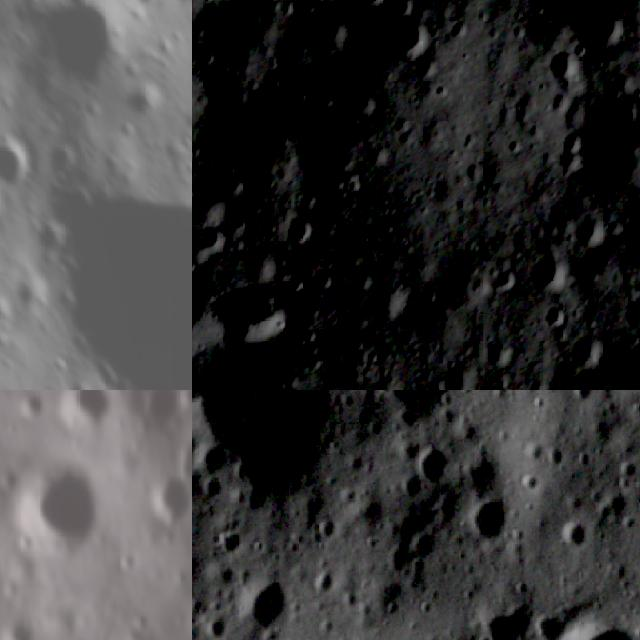crater: (39, 190, 192, 390), (0, 452, 103, 568), (26, 0, 126, 93), (231, 568, 304, 640), (210, 286, 288, 345), (535, 599, 640, 640), (458, 491, 516, 551), (406, 436, 461, 491), (145, 460, 192, 524), (53, 390, 124, 432), (384, 10, 430, 52), (532, 252, 574, 292), (555, 512, 592, 556), (567, 329, 605, 371), (0, 142, 24, 200), (0, 609, 44, 640), (345, 81, 382, 116), (555, 130, 584, 172), (370, 281, 400, 321), (192, 422, 209, 491), (481, 340, 517, 366), (516, 468, 546, 499), (280, 219, 316, 244), (596, 9, 623, 42), (546, 45, 570, 80), (540, 300, 572, 326), (414, 51, 441, 80), (578, 212, 601, 243), (194, 225, 222, 249), (282, 269, 308, 294), (314, 264, 338, 290), (624, 290, 640, 327), (450, 16, 471, 41), (259, 65, 280, 89), (156, 0, 192, 13), (348, 267, 370, 288), (194, 45, 216, 66), (55, 0, 94, 11), (390, 0, 411, 17), (357, 0, 389, 8)
